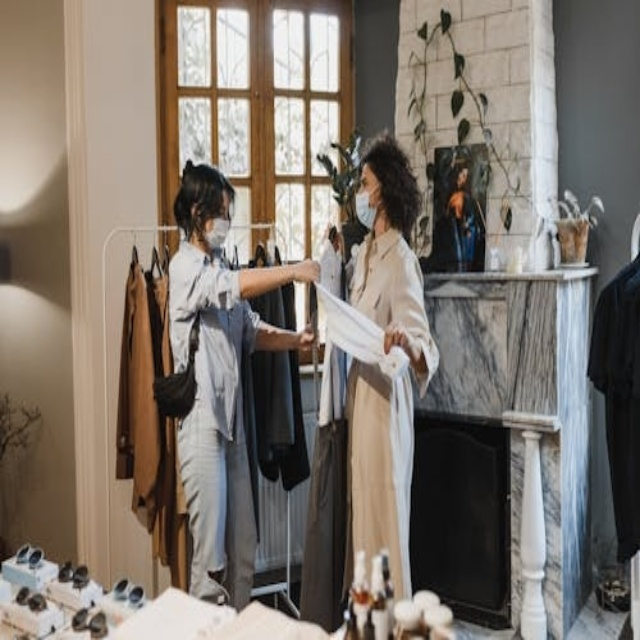Mascara: (355, 188, 379, 230), (203, 217, 230, 250)
Sin_guantes: (383, 318, 413, 354), (296, 256, 324, 288), (297, 321, 317, 353)
